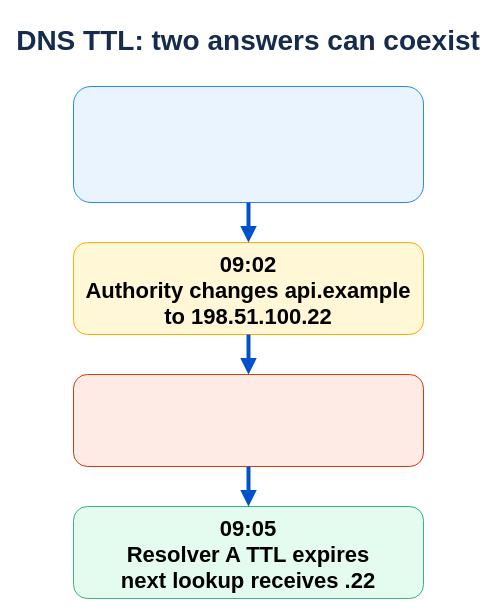
This 496x615 diagram has some shape labels left out. The shapes that lost their labels are listed below. From the top down, each one's centre as x and y in pixels, then its label:
point (248, 144): 09:00 Resolver A caches api.example = 198.51.100.11 TTL: 300 seconds
point (248, 420): 09:03 Resolver A returns cached .11 Resolver B receives .22
